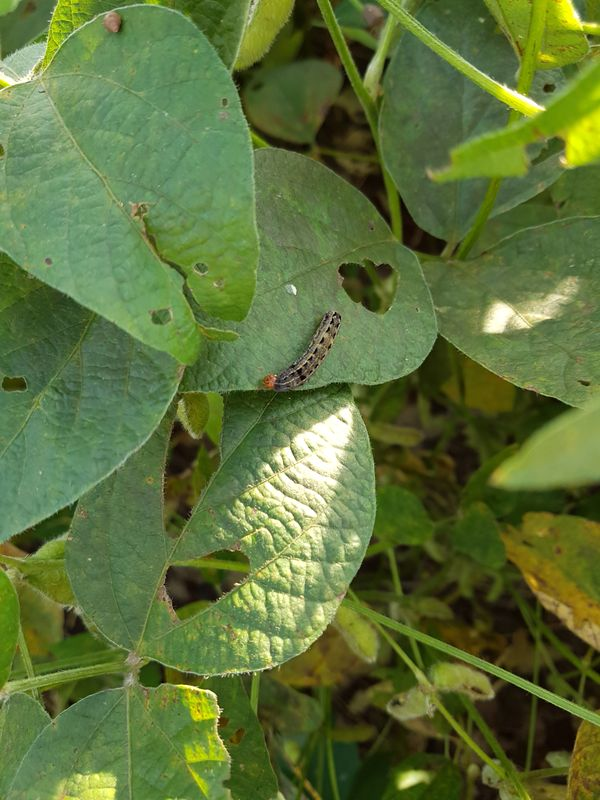Spodoptera_albula: (247, 302, 358, 403)
